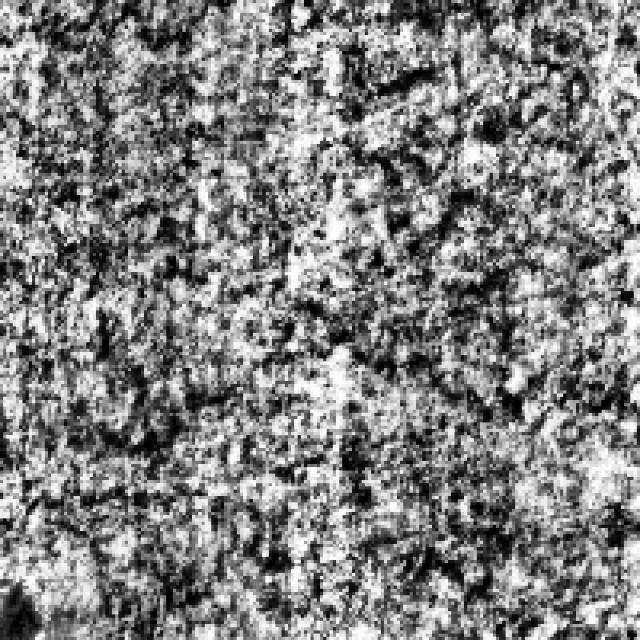Pitted_Surface: (26, 282, 473, 499)
